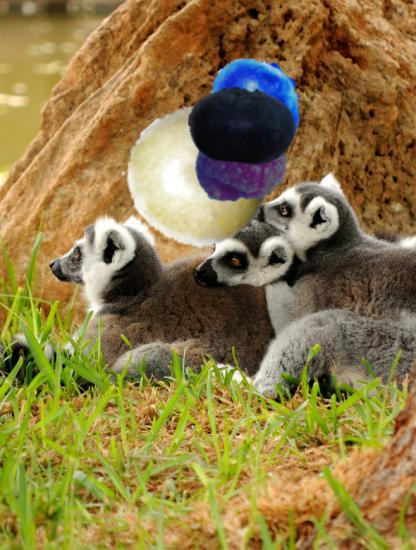Blueberry: (188, 71, 297, 180)
Huckleberry: (208, 52, 310, 154)
Maracuja: (128, 105, 271, 248)
Raspberry: (193, 109, 297, 213)
